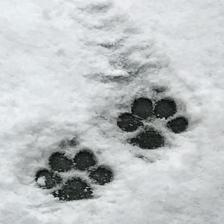cat: (31, 146, 118, 204), (115, 92, 195, 151)
